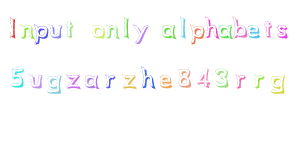3: (214, 66, 229, 89)
4: (196, 66, 211, 89)
5: (9, 67, 26, 89)
8: (176, 67, 193, 88)
I: (5, 13, 23, 41)
a: (160, 22, 177, 40), (83, 73, 101, 90), (217, 22, 232, 39)
b: (232, 12, 248, 41)
e: (246, 21, 261, 39), (158, 72, 173, 89)
g: (270, 74, 287, 96), (46, 74, 62, 95)
h: (203, 12, 219, 40), (140, 64, 156, 89)
l: (177, 14, 188, 40), (121, 14, 131, 39)
n: (20, 23, 35, 39), (105, 23, 119, 39)
o: (91, 23, 105, 39)
p: (34, 24, 49, 46), (189, 23, 204, 45)
r: (102, 72, 116, 90), (252, 71, 264, 89), (234, 72, 246, 89)
s: (275, 22, 289, 39)
t: (261, 18, 274, 39), (64, 18, 74, 40)
u: (28, 72, 43, 89), (48, 23, 62, 40)
y: (131, 22, 149, 45)
z: (122, 72, 138, 89), (66, 73, 82, 89)
